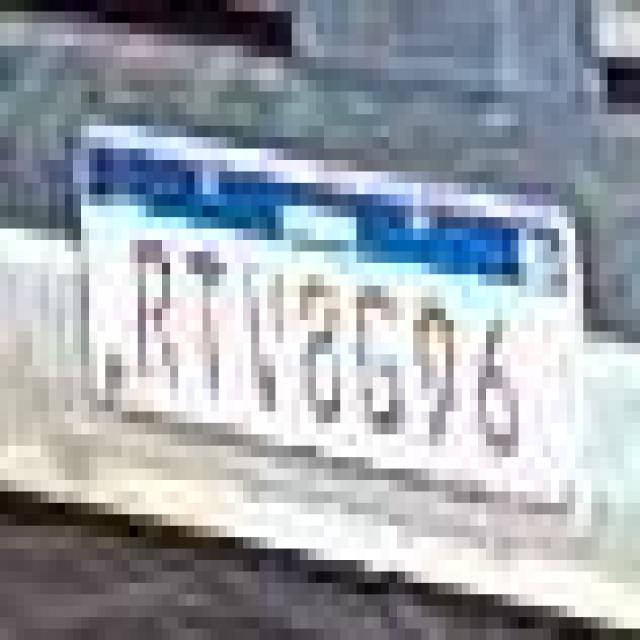6: (470, 293, 528, 470)
8: (291, 269, 353, 439)
9: (401, 283, 470, 454)
G: (350, 274, 411, 454)
R: (125, 226, 178, 406)
T: (174, 229, 238, 415)
V: (241, 258, 293, 436)
